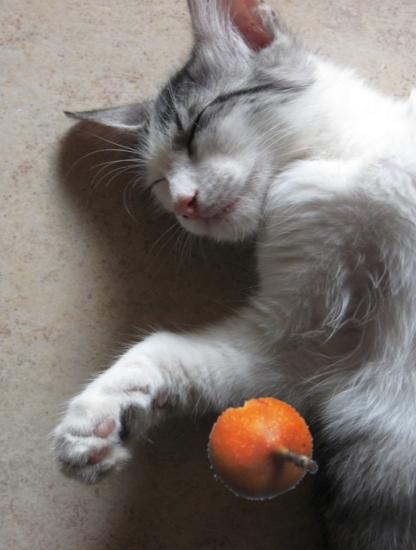Granadilla: (207, 395, 316, 504)
